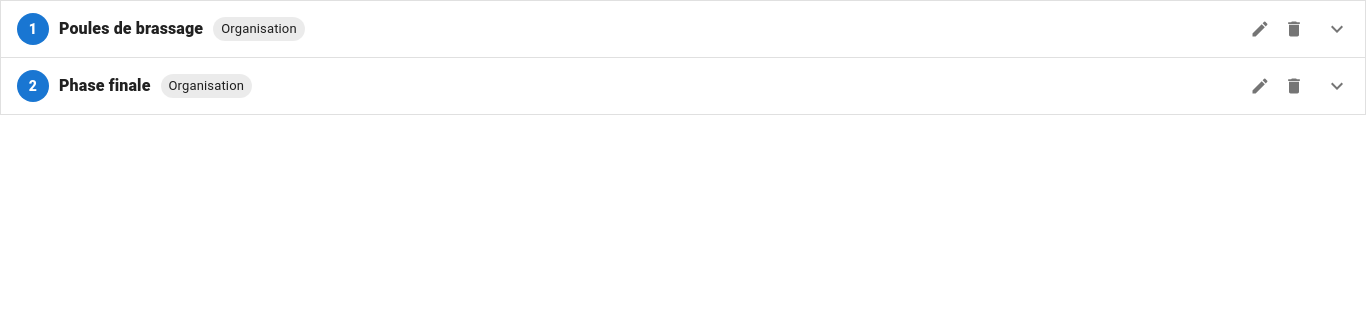
Scenario: PhaseTreeRoot › should render roots as accordions and children as phase tree items
Expected: the button "2 Phase finale Organisation" is shown, [1,58,1365,114]
Click the button "1 Poules de brassage Organisation" at (33, 29), box [1,1,1365,57]
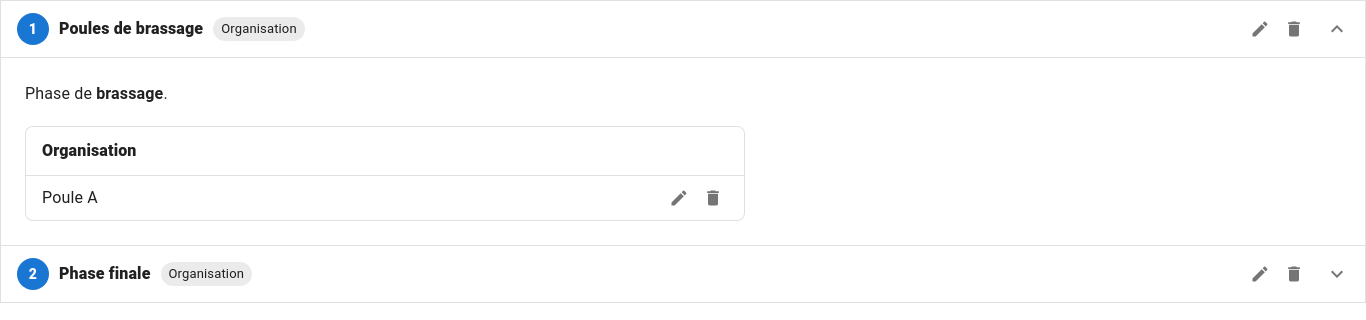
Expected: the element named "Organisation de Poules de brassage" is shown, [25,126,745,221]
Expected: the element named "Éléments de l'organisation de Poules de brassage" is shown, [26,176,744,220]
Expected: the text "Poule A" is shown, [42,188,98,207]
